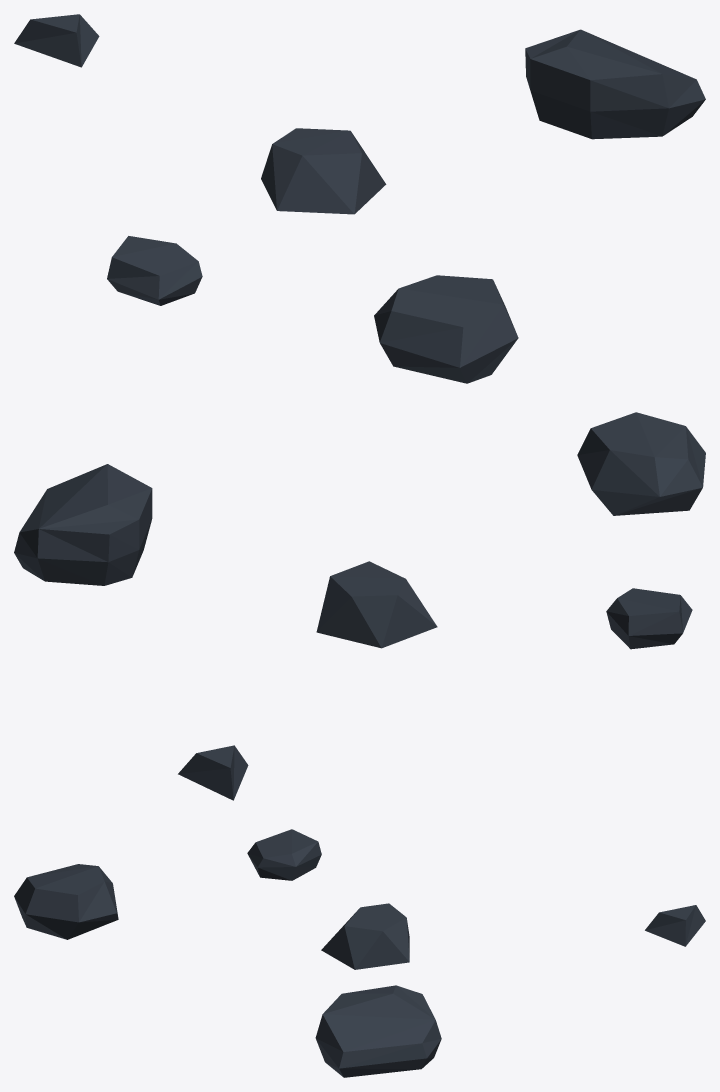
The model's file is TB_Env_Stone_Set1_A.FBX.
3 views of the same model, one above another, from view 1: azimuth 30°, elevation 25°; view 2: azimuth 150°, elevation 25°; view 3: azimuth 270°, elevation 25° (orthographic). The views are drawn at different scales.
Visible parts, largest first — view 1: TB_Env_Stone_Set1_A; view 2: TB_Env_Stone_Set1_A; view 3: TB_Env_Stone_Set1_A.
Part boxes in pixels (left/top/right/bottom): TB_Env_Stone_Set1_A: left=14, top=14, right=705, bottom=383; TB_Env_Stone_Set1_A: left=14, top=412, right=705, bottom=800; TB_Env_Stone_Set1_A: left=14, top=829, right=705, bottom=1077.
Bounding box in the file's own units: 2.91 × 0.3027 × 3.74.
